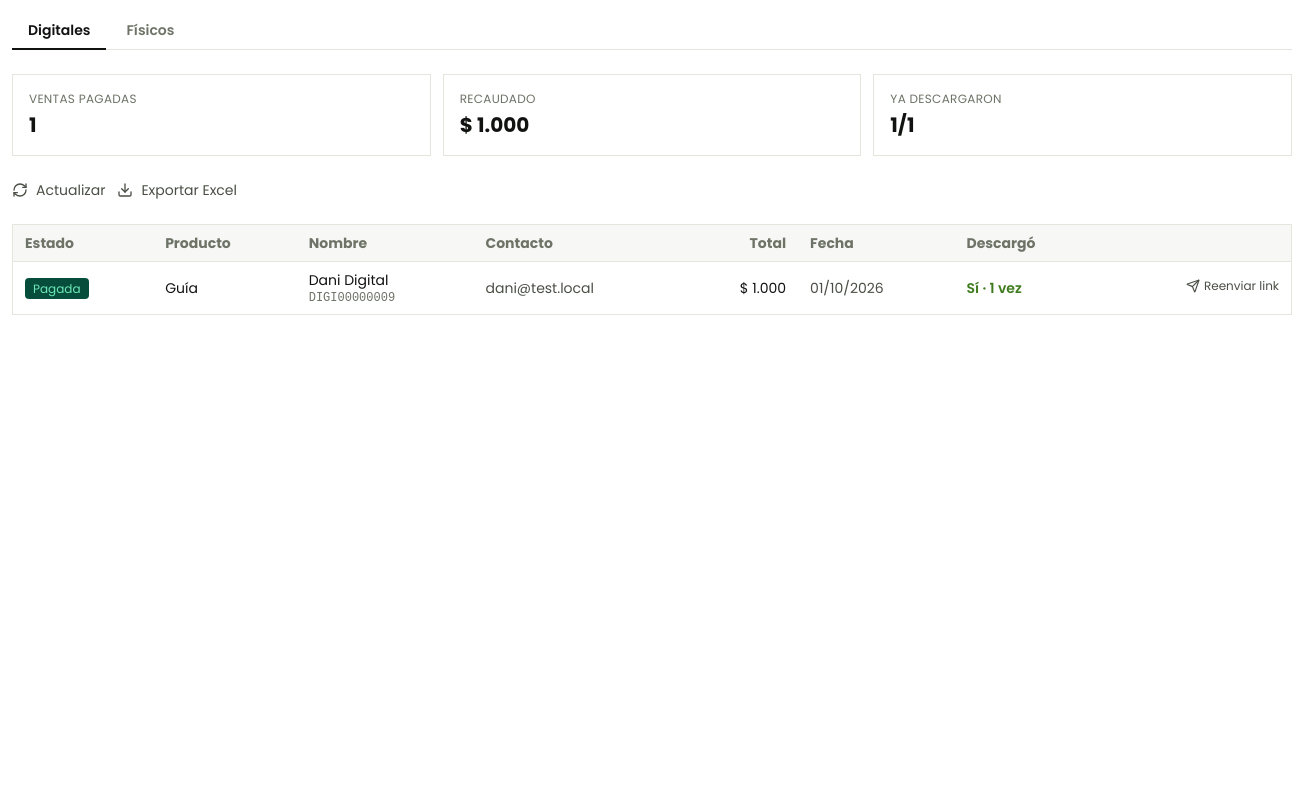
Ventas de productos físicos (#44) › detalle › muestra al comprador, la dirección completa, los horarios y el historial
What coordinates should you click on to do the following:
click the tab "Físicos"
I would click on:
 (150, 31)
Its box is top-left (110, 12), bottom-right (190, 50).
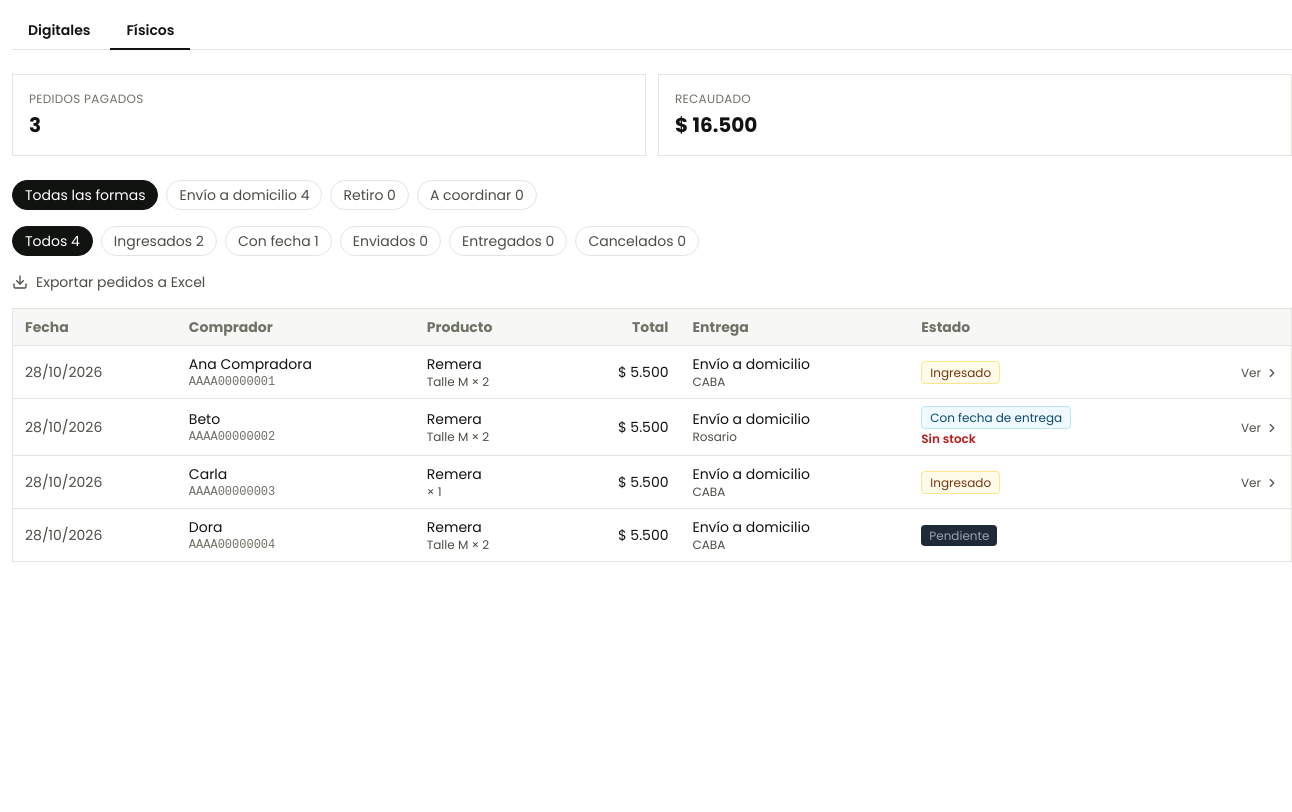
What coordinates should you click on to do the following:
click the button with aria-label "Ver el pedido de Ana Compradora"
I would click on:
 (1260, 373)
Its box is top-left (1241, 365), bottom-right (1279, 381).
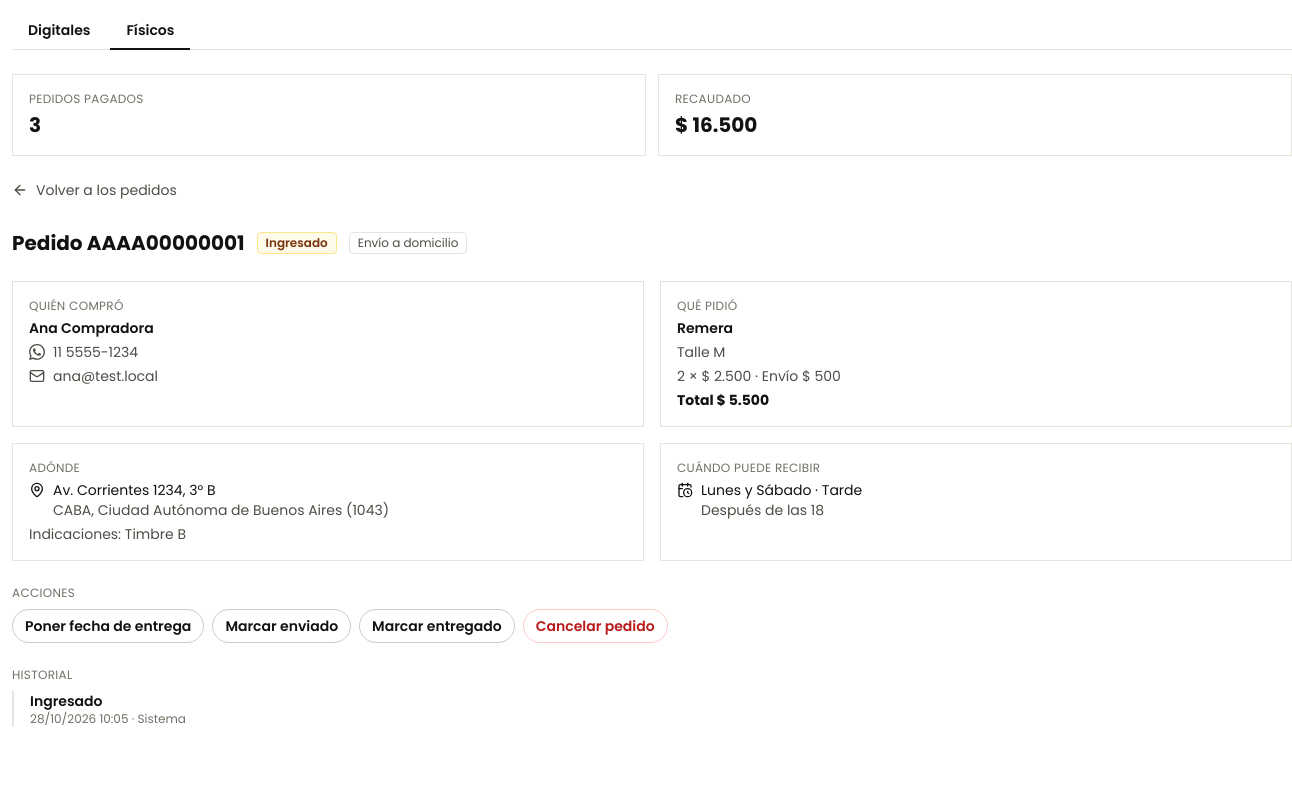
Now the heading "Pedido AAAA00000001" is shown, box top-left (12, 229), bottom-right (245, 257)
Now the text "Av. Corrientes 1234" shows "Av. Corrientes 1234, 3° B", box top-left (53, 480), bottom-right (389, 520)
Now the text "Indicaciones: Timbre B" is shown, box top-left (29, 524), bottom-right (186, 544)
